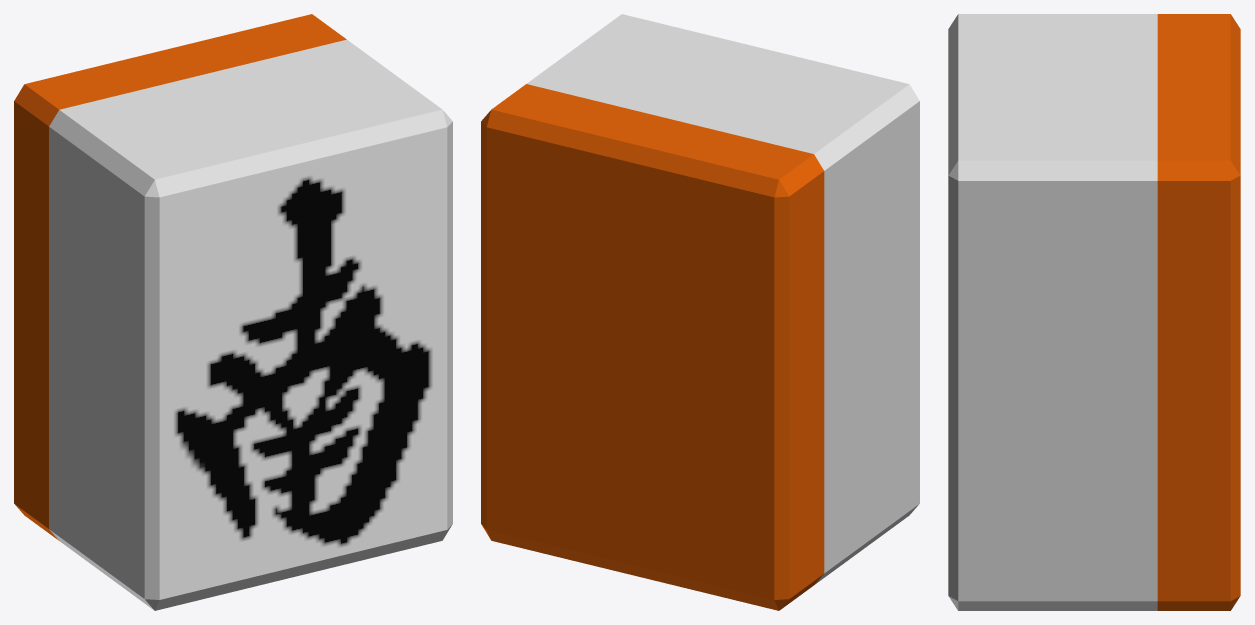
The model's file is South.gltf.
3 renders of one model, left to right at view 1: azimuth 30°, elevation 25°; view 2: azimuth 150°, elevation 25°; view 3: azimuth 270°, elevation 25°, orthographic. The views are drawn at different scales.
Visible parts, largest first — view 1: Cube; view 2: Cube; view 3: Cube.
Part boxes in pixels (x1,y1,x2,y2): Cube: (14,14,452,610); Cube: (481,14,919,610); Cube: (948,14,1240,610).
Size of the model in its own units: 1.95 by 2.6 by 1.53.
3 materials, 1 textured.
